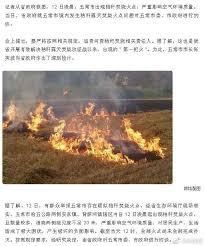fire: (3, 92, 138, 163)
